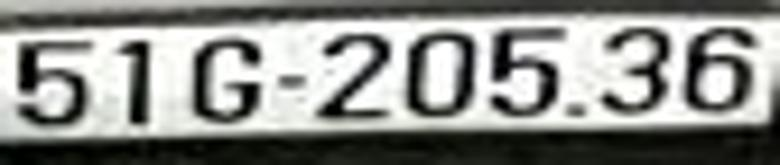-: (276, 71, 305, 90)
.: (564, 100, 589, 120)
0: (400, 31, 475, 119)
1: (122, 35, 160, 126)
2: (314, 32, 389, 119)
3: (602, 22, 669, 119)
5: (490, 25, 561, 121), (12, 37, 89, 125)
6: (679, 21, 754, 117)
G: (191, 38, 261, 128)
